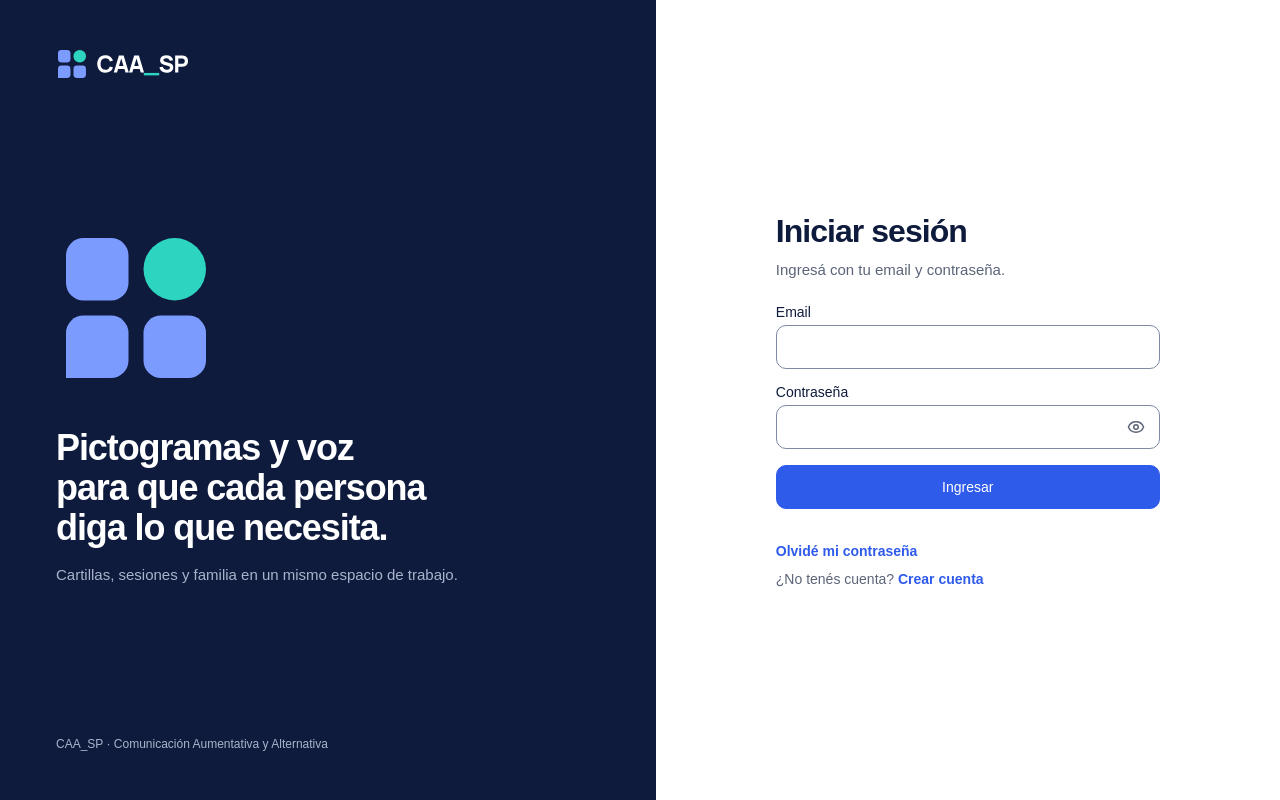
it: LoginPage › disables the submit button while pending
In the field labelled "Email": (968, 347) [776,325,1160,369], type "ana@example.com"
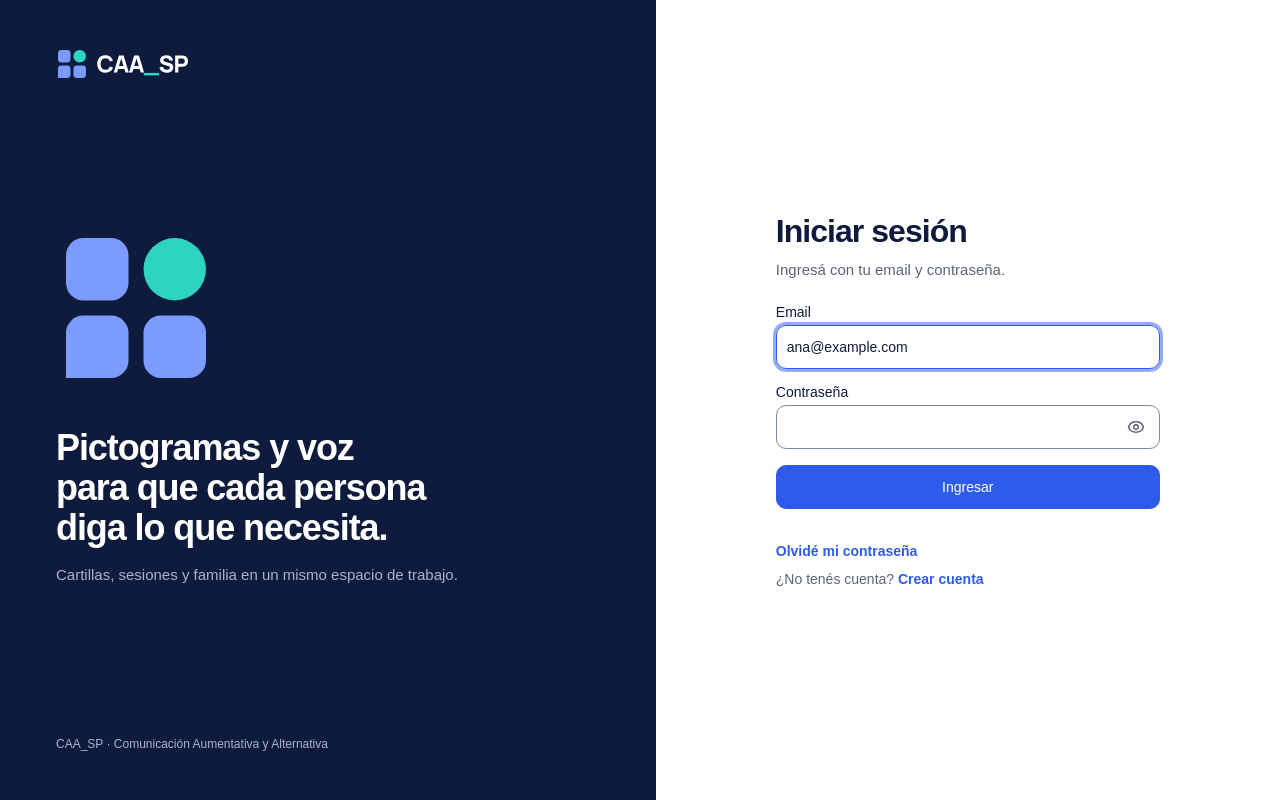
In the password field labelled "Contraseña": (968, 427) [776,405,1160,449], type "secret"
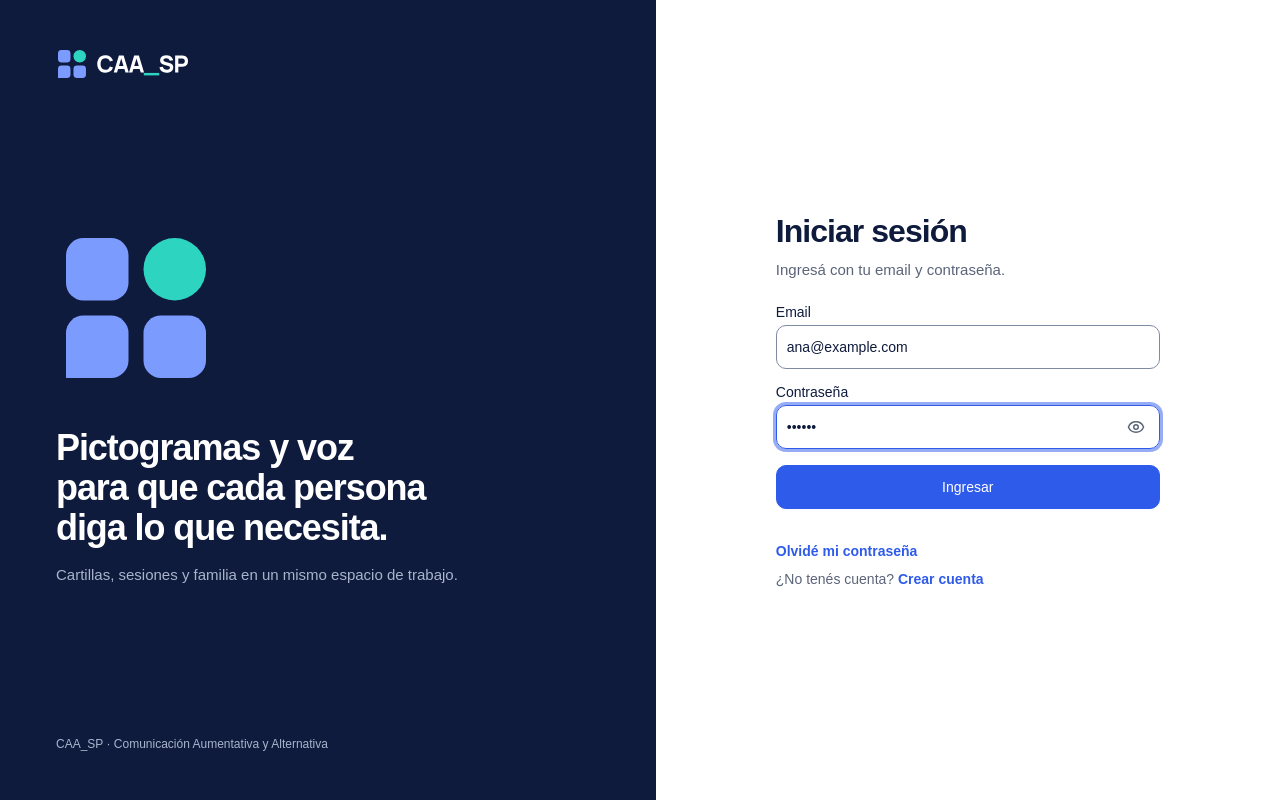
Click the button "Ingresar": (968, 487) [776,465,1160,509]
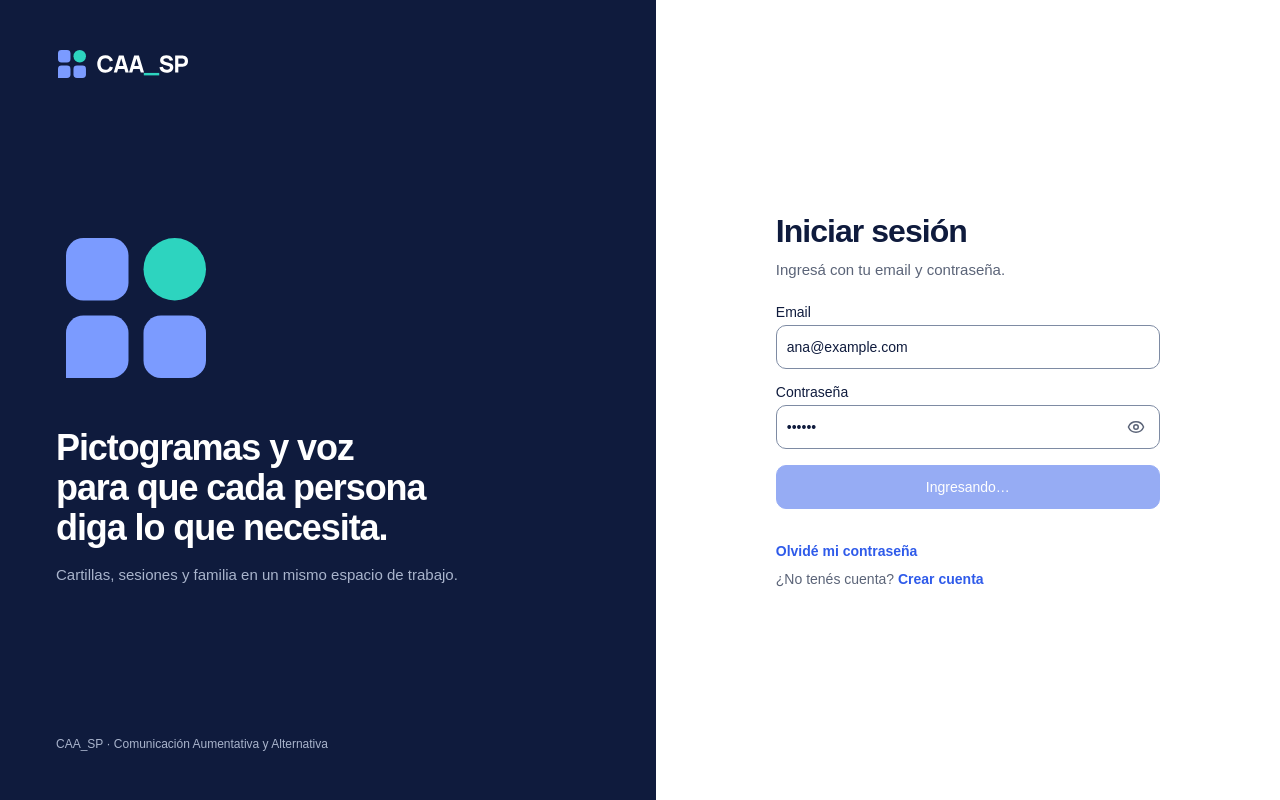
Result: the button "Ingresando…" is disabled at [776,465,1160,509]
